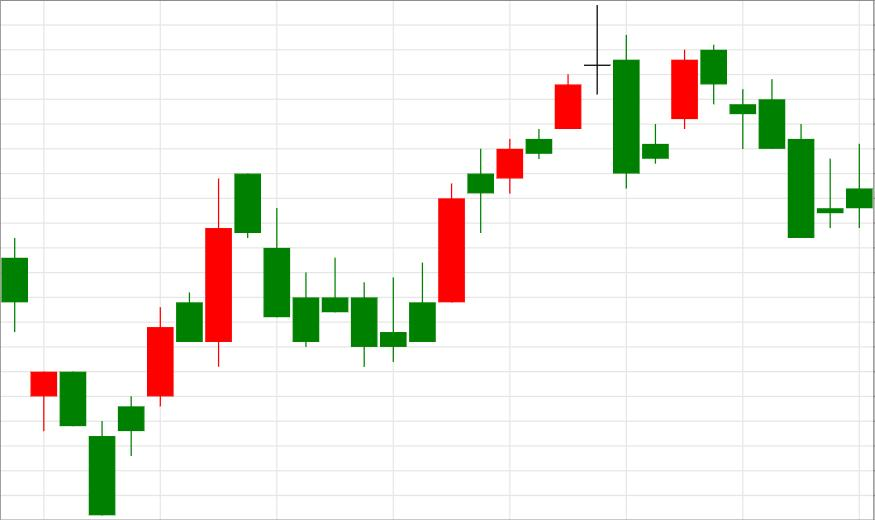evening_star_fall: (438, 5, 640, 304)
